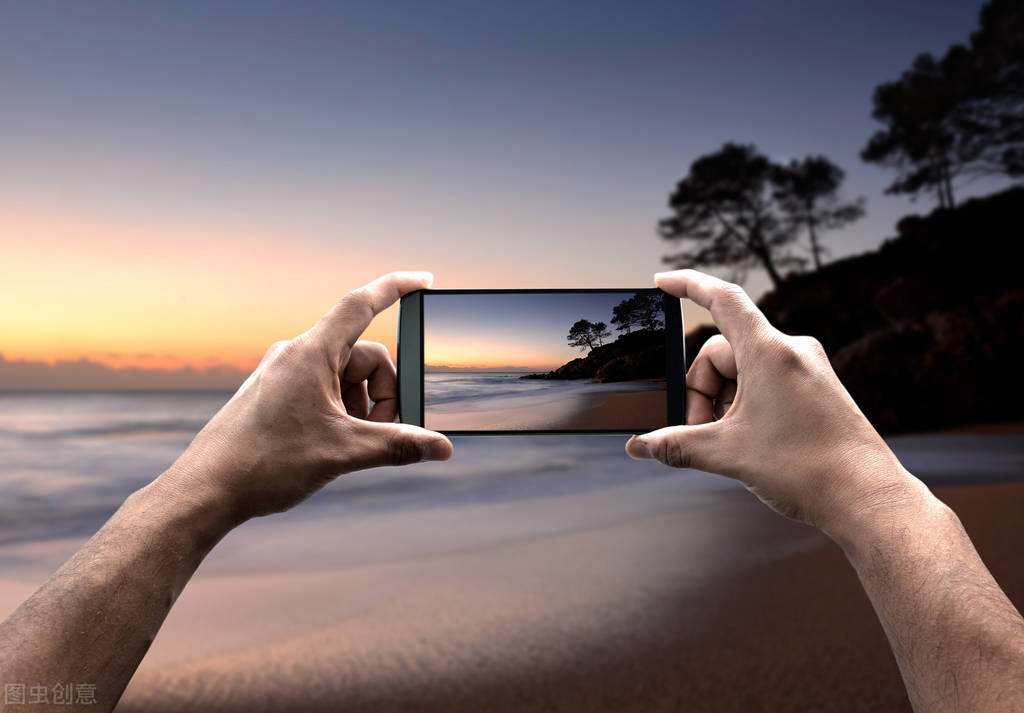taking photos: (163, 253, 900, 533)
